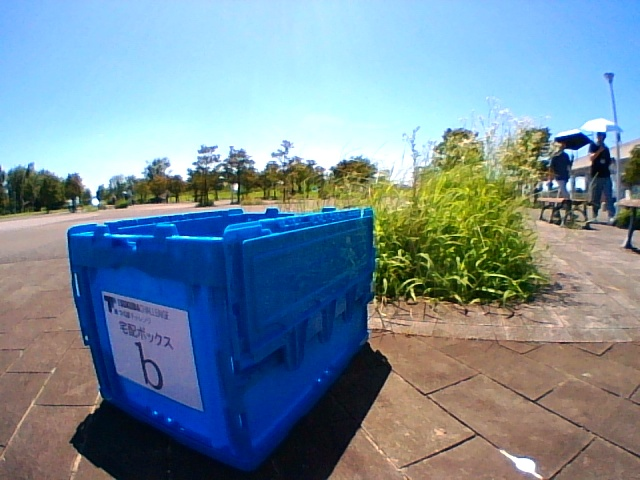blue_box: (69, 209, 367, 407)
tag_b: (122, 312, 181, 390)
